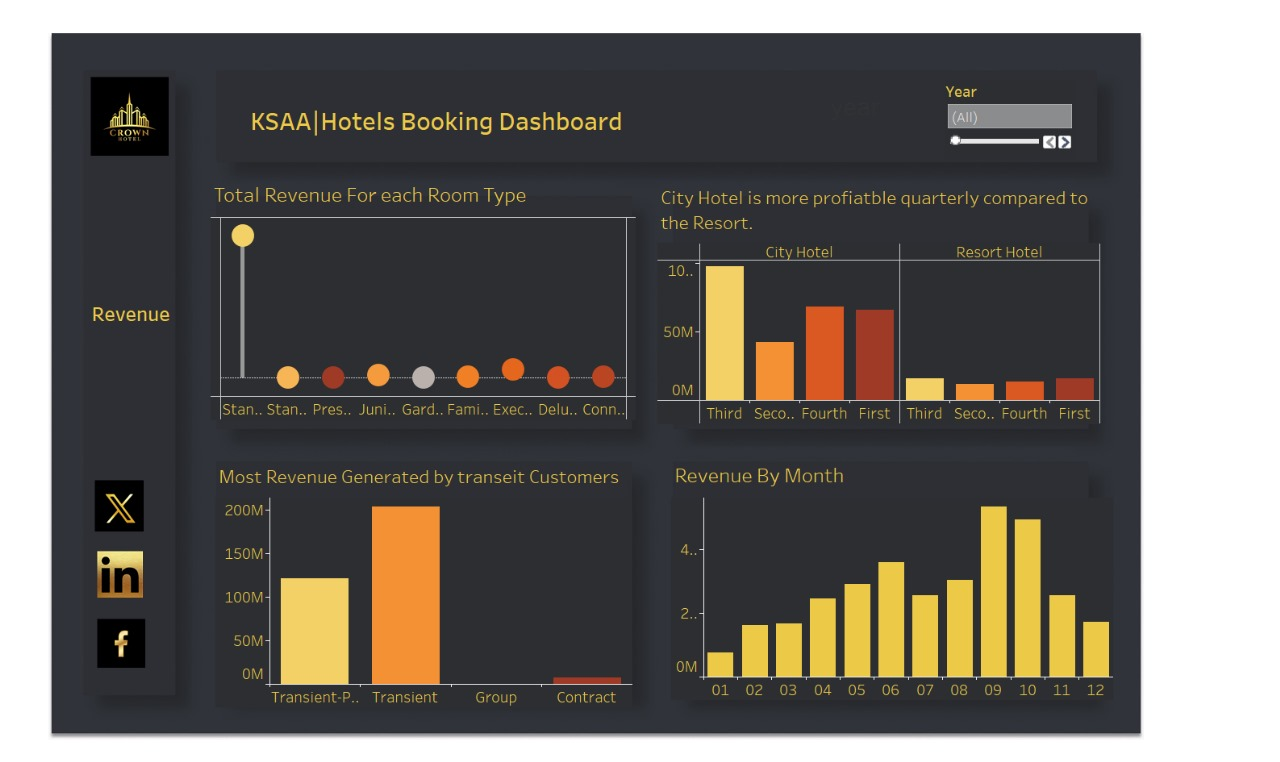

The dashboard page shown, as its layout file describes it:
{"tool":"powerbi","page":{"name":"Revenue","canvas":[1280,720],"ordinal":4},"visuals":[{"type":"shape","box":[0,0,87.3,720.8],"z":0},{"type":"shape","box":[103.3,353.3,820,346.7],"z":0,"group":"g1"},{"type":"textbox","box":[103.8,17.7,396.2,49.2],"z":1000},{"type":"pageNavigator","box":[103.5,73.7,820.6,43.9],"z":2000},{"type":"image","box":[5.7,10,75.7,65.7],"z":3000},{"type":"clusteredBarChart","title":"Top 10 Performing Countries by Revenue","fields":{"Y":["# Measures.Net Revenue"],"Category":["DIM_Country.Country"]},"box":[941.1,352.9,327.4,347.2],"z":4000},{"type":"image","box":[19.8,97.8,48.2,38.3],"z":6000},{"type":"group","id":"g1","title":"Group 2","box":[103.3,353.3,820,346.7],"z":7000},{"type":"cardVisual","fields":{"Data":["# Measures.Gross Revenue","# Measures.Net Revenue","# Measures.Discounts"]},"box":[103.5,131.8,820.6,99.2],"z":8000},{"type":"cardVisual","fields":{"Data":["# Measures.Room Revenue","# Measures.Service Revenue","# Measures.Avg Daily Rate"]},"box":[104.9,239.5,819.2,100.6],"z":9000},{"type":"lineChart","title":"Net Revenue Forecasting","fields":{"Y":["# Measures.Net Revenue"],"Category":["DimDate.Date"]},"box":[119.3,442.2,790,257.6],"z":9000,"group":"g1"},{"type":"lineChart","title":"Net Revenue by Hotel Type","fields":{"Y":["# Measures.Net Revenue"],"Series":["DIM_Hotel_Type.Hotel_Type"],"Category":["DimDate.Month Short"]},"box":[941.1,66.6,327.4,273.5],"z":9001},{"type":"textbox","box":[116.8,361.6,790,80.6],"z":10000,"group":"g1"}]}

Visuals, with their boxes on the page's 1280x720 design canvas (x1, y1, x2, y2). These are canvas units, not pixel positions in the 1280x762 screenshot, which may show the page scaled, cropped or inside an application window:
shape: 0, 0, 87, 721
shape: 103, 353, 923, 700
textbox: 104, 18, 500, 67
pageNavigator: 104, 74, 924, 118
image: 6, 10, 81, 76
"Top 10 Performing Countries by Revenue" clusteredBarChart: 941, 353, 1268, 700
image: 20, 98, 68, 136
"Group 2" group: 103, 353, 923, 700
cardVisual - # Measures.Gross Revenue x # Measures.Net Revenue: 104, 132, 924, 231
cardVisual - # Measures.Room Revenue x # Measures.Service Revenue: 105, 240, 924, 340
"Net Revenue Forecasting" lineChart: 119, 442, 909, 700
"Net Revenue by Hotel Type" lineChart: 941, 67, 1268, 340
textbox: 117, 362, 907, 442
